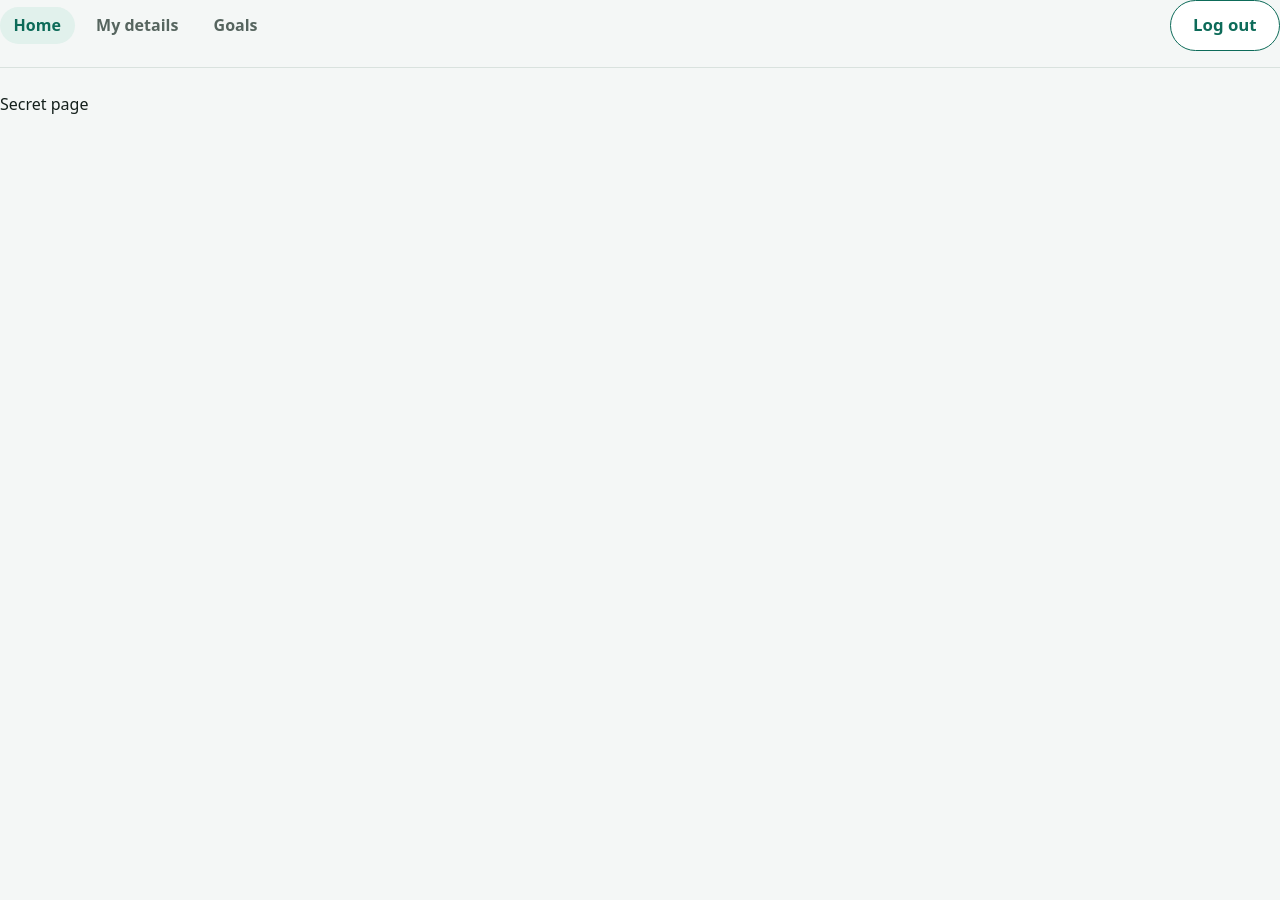
Scenario: protected pages › ask before logging out, because logging out deletes the account
Click the button "Log out": click(1225, 26) [1170, 0, 1279, 51]
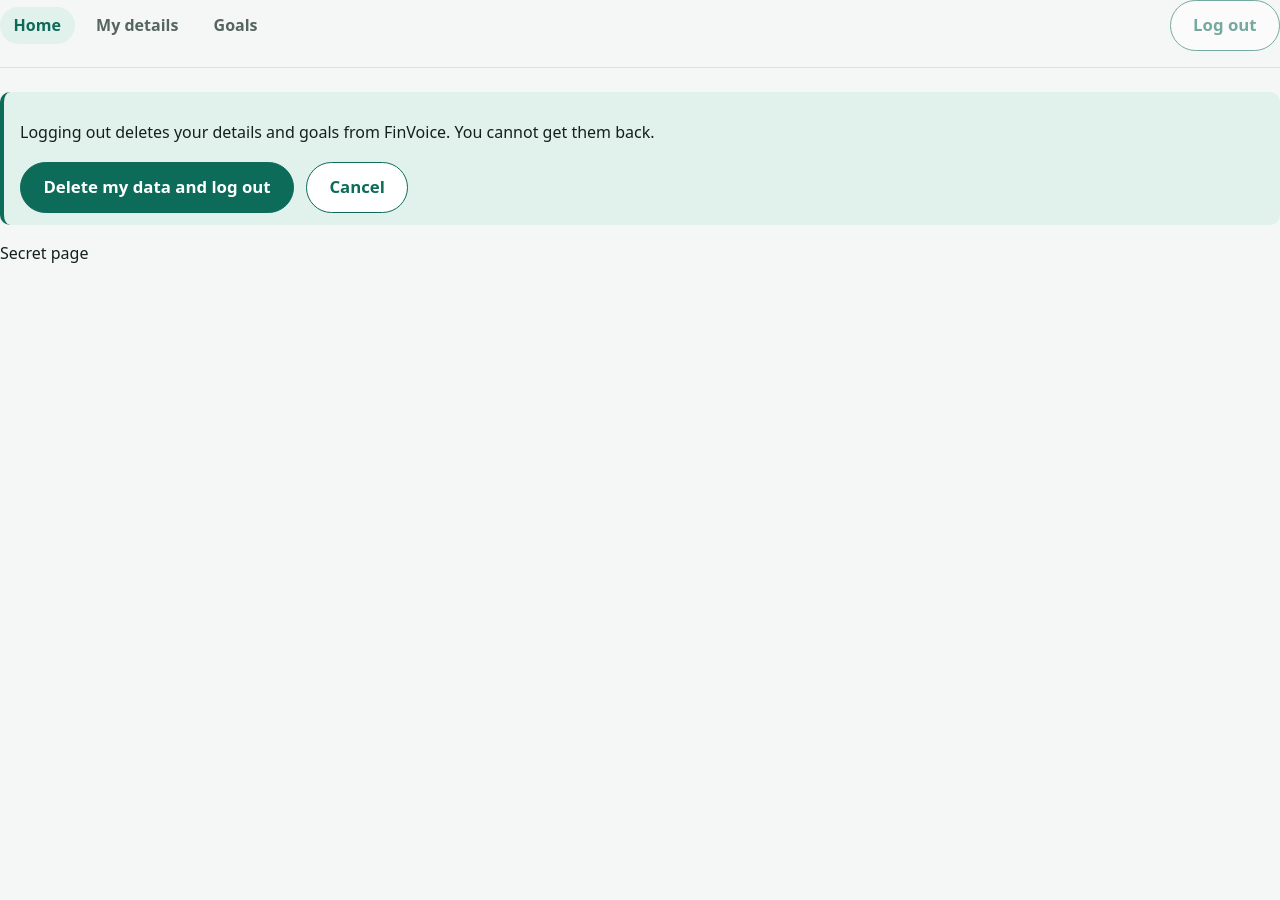
Result: the dialog shows "Logging out deletes your details and goals" at [20, 121, 654, 143]
Click the button "Cancel": click(357, 187) [306, 162, 408, 213]
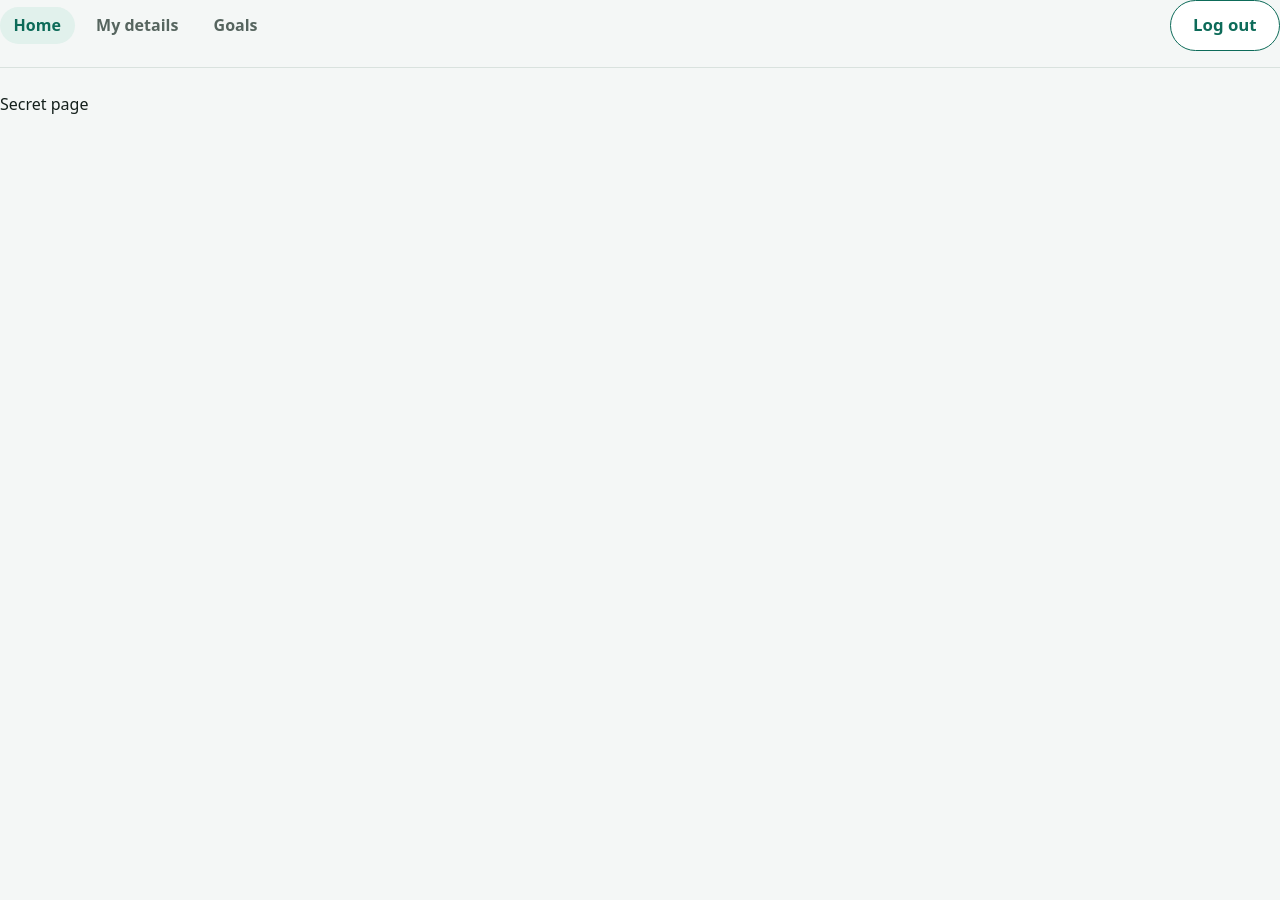
Expected: the text "Secret page" is shown, [0, 93, 88, 115]
Result: the dialog is gone
